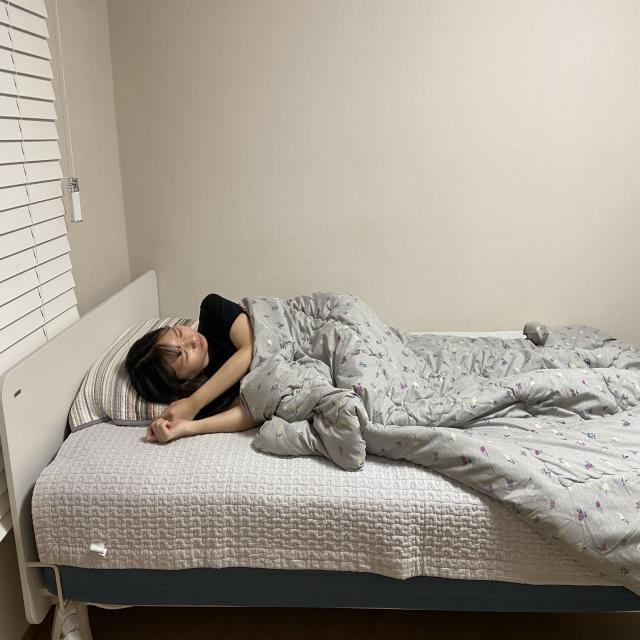people: (137, 274, 640, 466)
